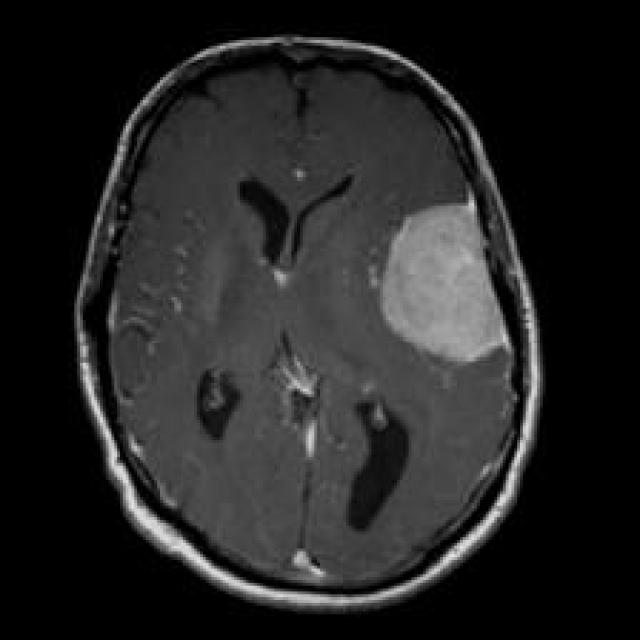meningioma_tumor: (372, 182, 524, 390)
